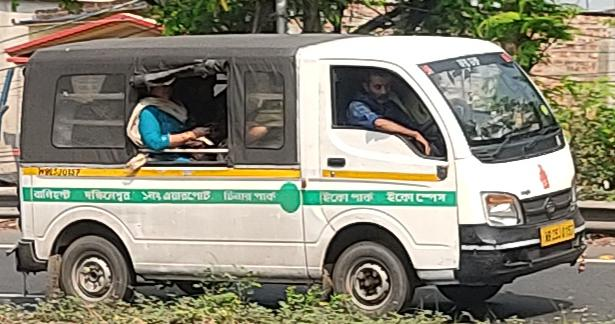Auto: (18, 32, 588, 321)
